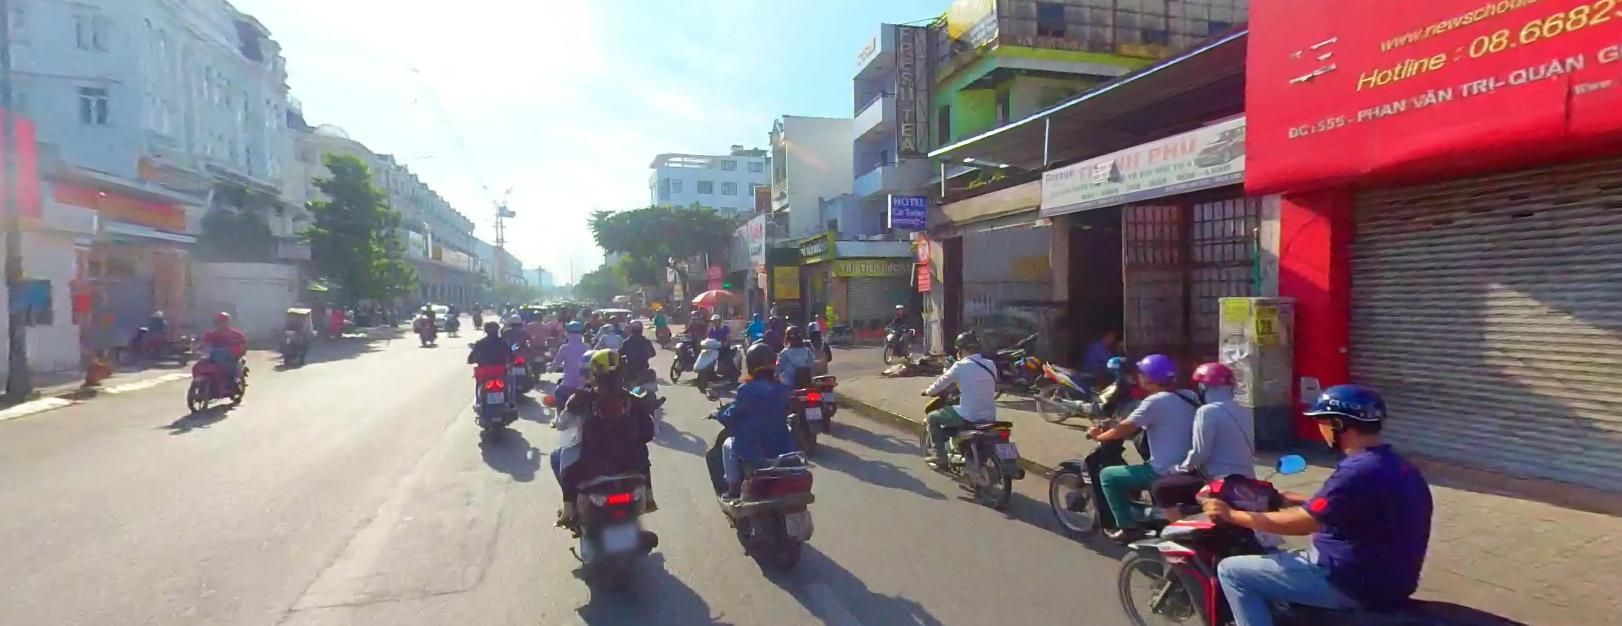Cam con lai: (917, 237, 930, 262), (707, 262, 721, 277)
